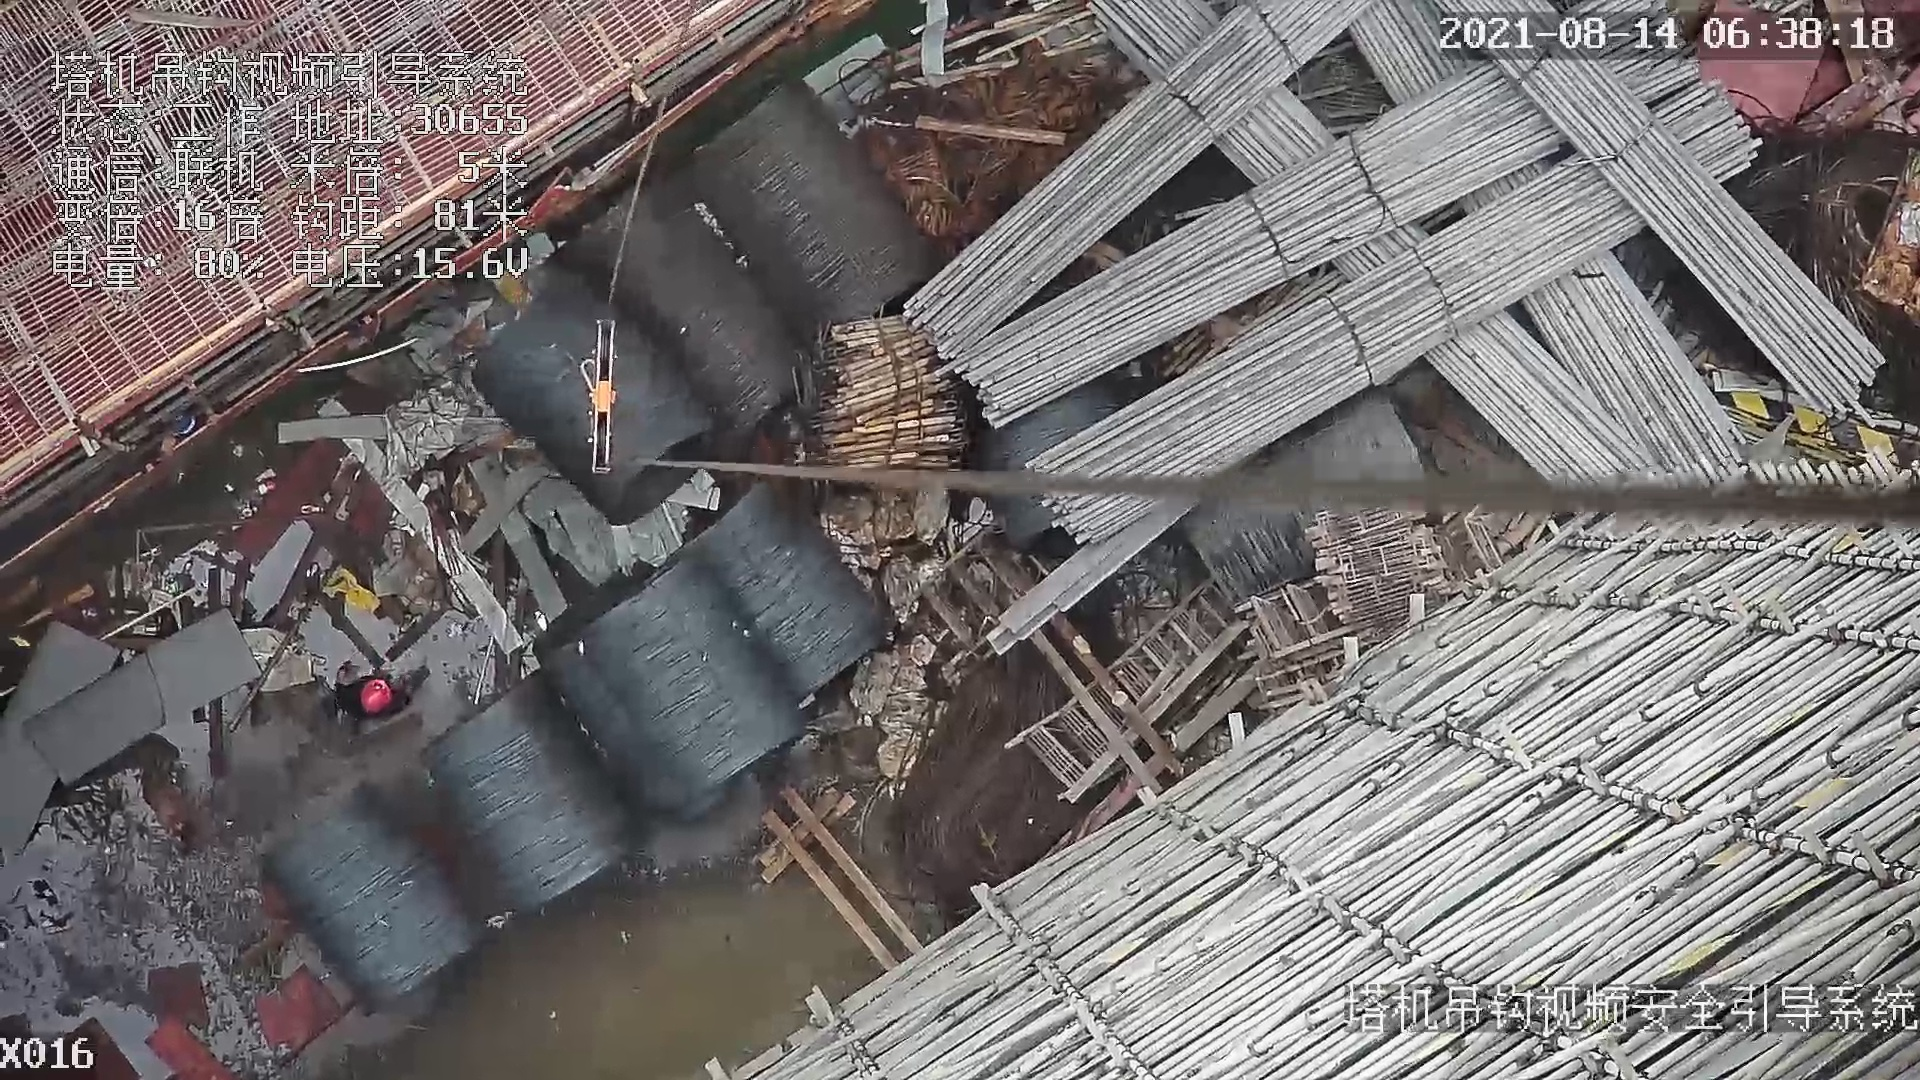helmet: (361, 668, 404, 725)
hook: (578, 313, 620, 476)
person: (324, 656, 446, 723)
